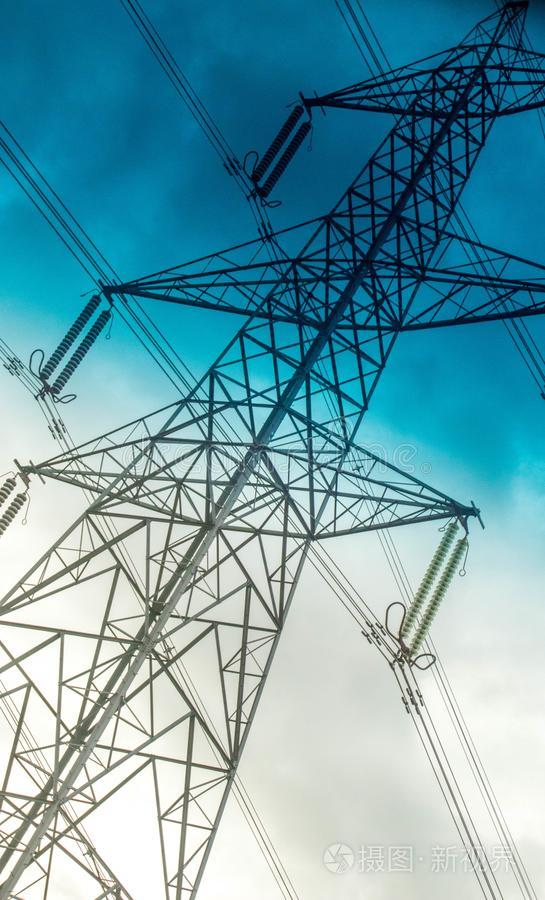insulator: (402, 524, 466, 656), (45, 294, 115, 388), (256, 103, 311, 193), (1, 478, 26, 535)
